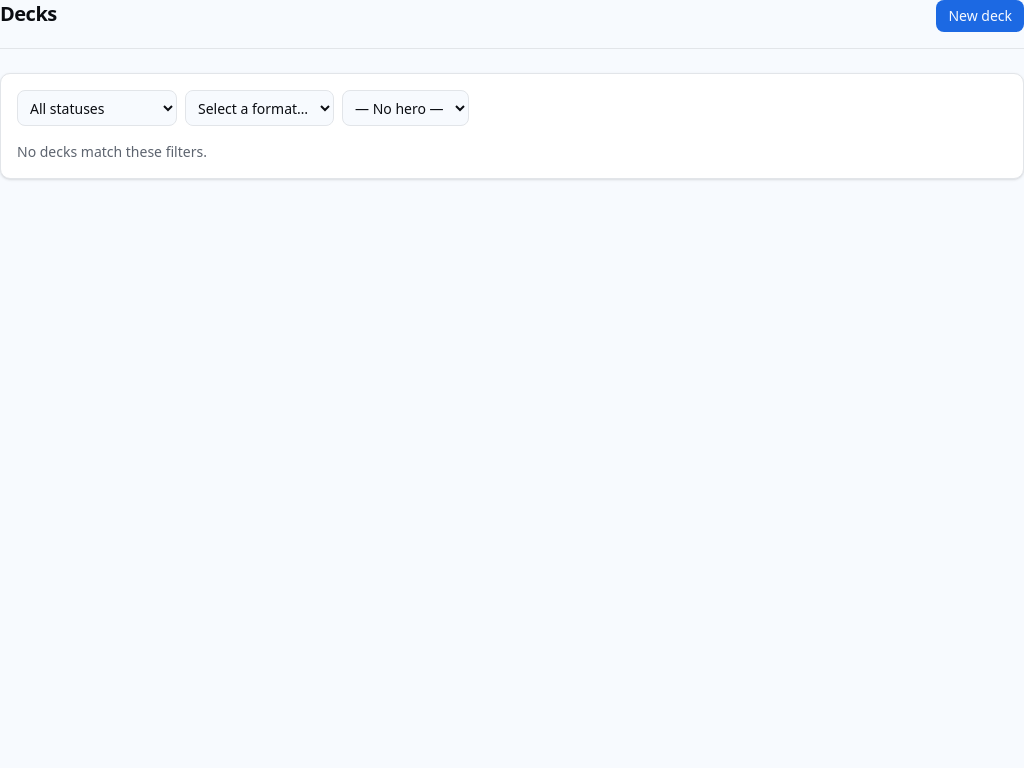
Scenario: DecksPage › closes the modal when cancelled
Click the button "New deck". click: [980, 16]
box: [936, 0, 1023, 32]
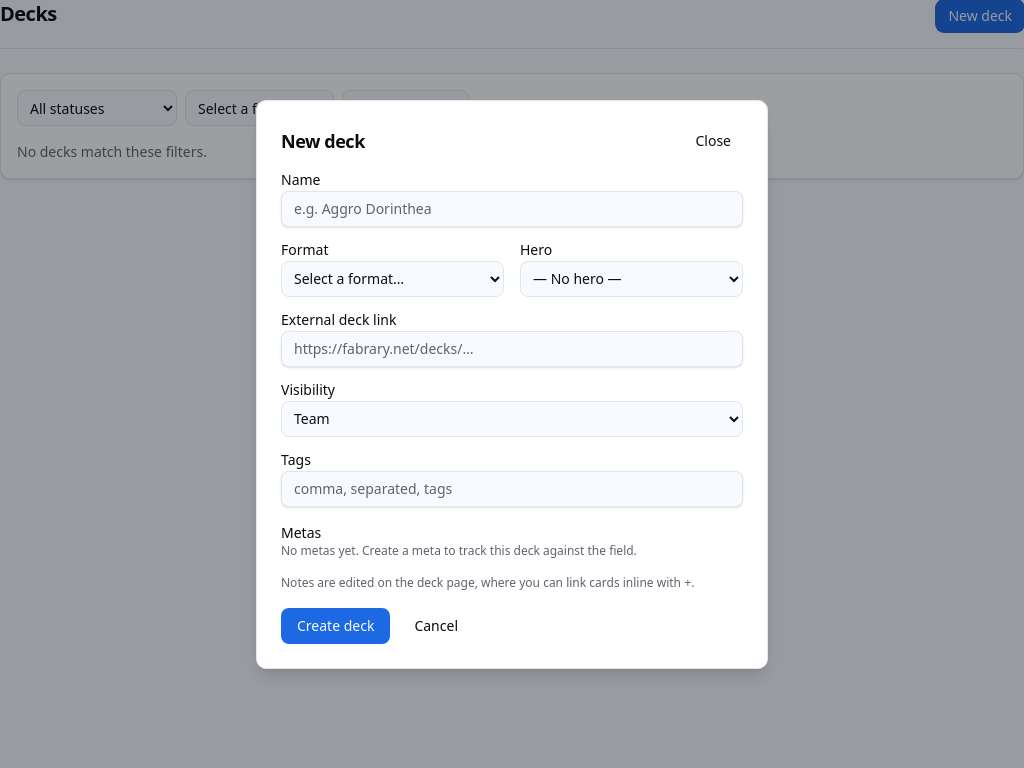
Click the button "Cancel". click: [436, 626]
box: [398, 608, 474, 644]
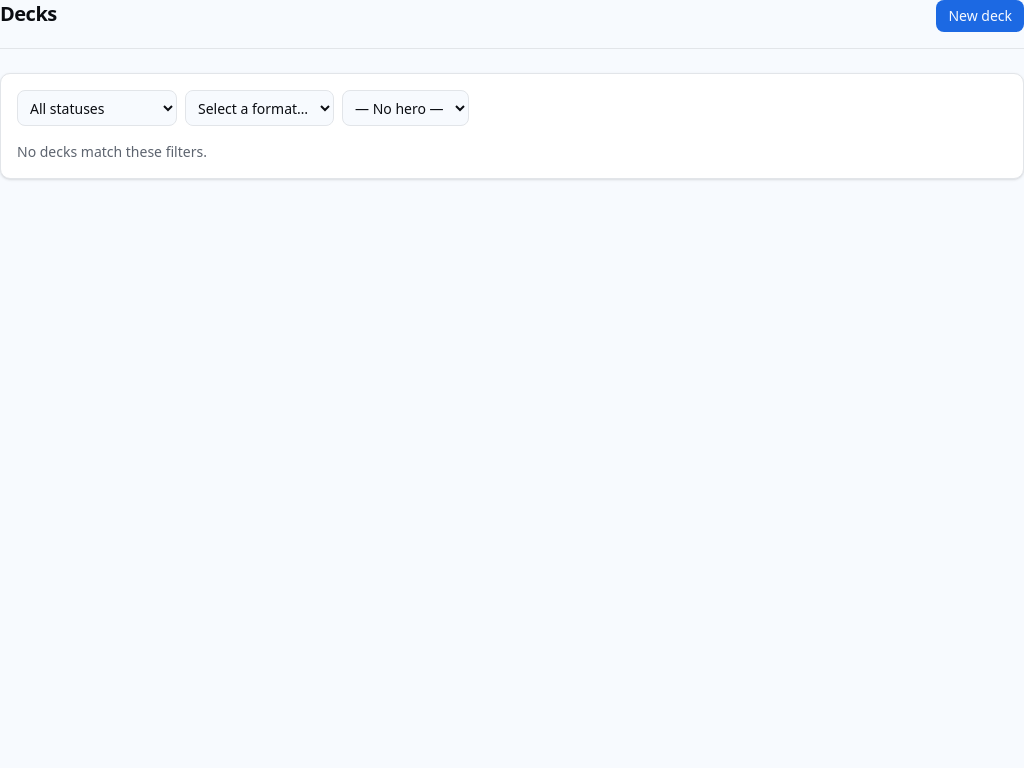
Now the dialog is gone
